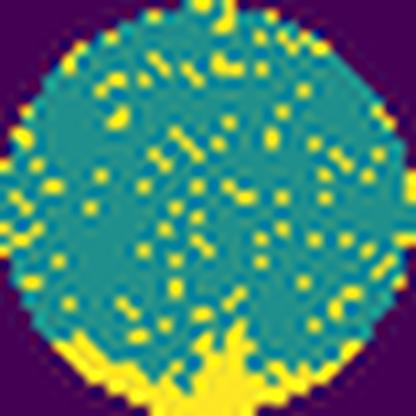Edge-Loc: (52, 316, 369, 416)
